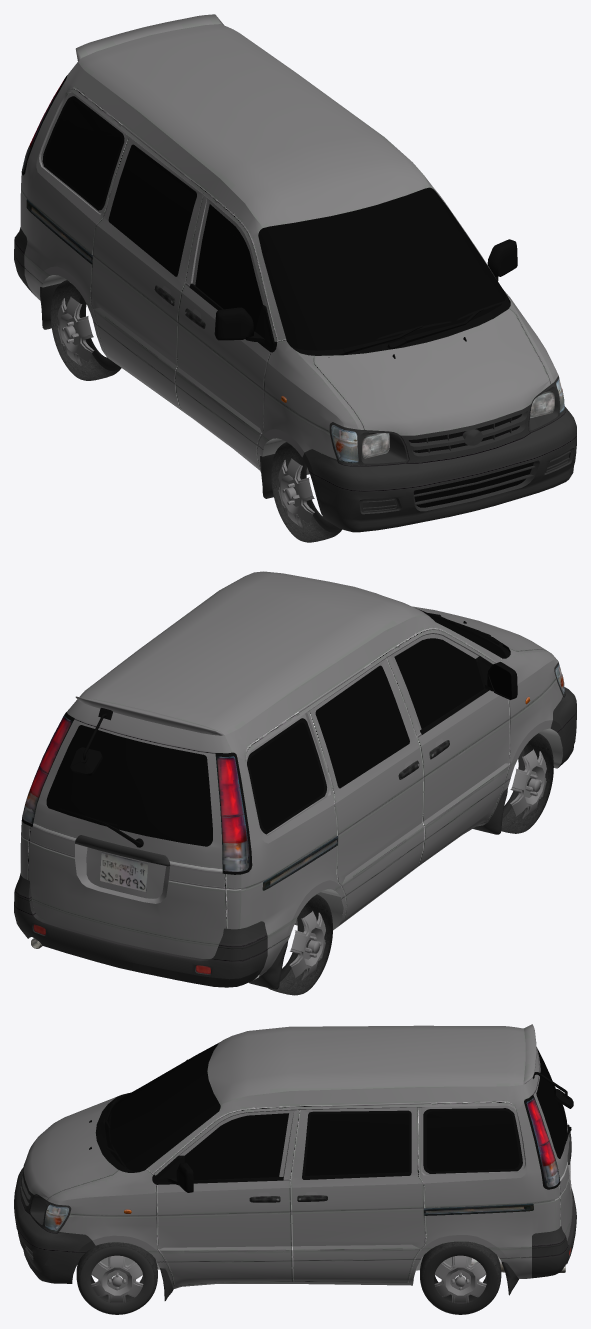
File: Noah.fbx
3 views of the same model, one above another, from view 1: azimuth 30°, elevation 25°; view 2: azimuth 150°, elevation 25°; view 3: azimuth 270°, elevation 25° (orthographic). The views are drawn at different scales.
Visible parts, largest first — view 1: Noah, Wheel_2.001, Wheel_1_L.001; view 2: Noah, Wheel_2.001, Wheel_1_L.001; view 3: Noah, Wheel_2.002, Wheel_1_L.
Boxes of the visible parts, x1,y1,x2,y2 form: Noah: [14, 14, 576, 532]; Wheel_2.001: [50, 280, 121, 380]; Wheel_1_L.001: [271, 442, 341, 542]; Noah: [14, 571, 576, 989]; Wheel_2.001: [268, 894, 332, 995]; Wheel_1_L.001: [501, 733, 553, 833]; Noah: [14, 1024, 576, 1300]; Wheel_2.002: [420, 1241, 501, 1314]; Wheel_1_L: [76, 1242, 157, 1314].
Size of the model in its own units: 2.14 by 1.95 by 4.45.
1 material, 1 textured.
